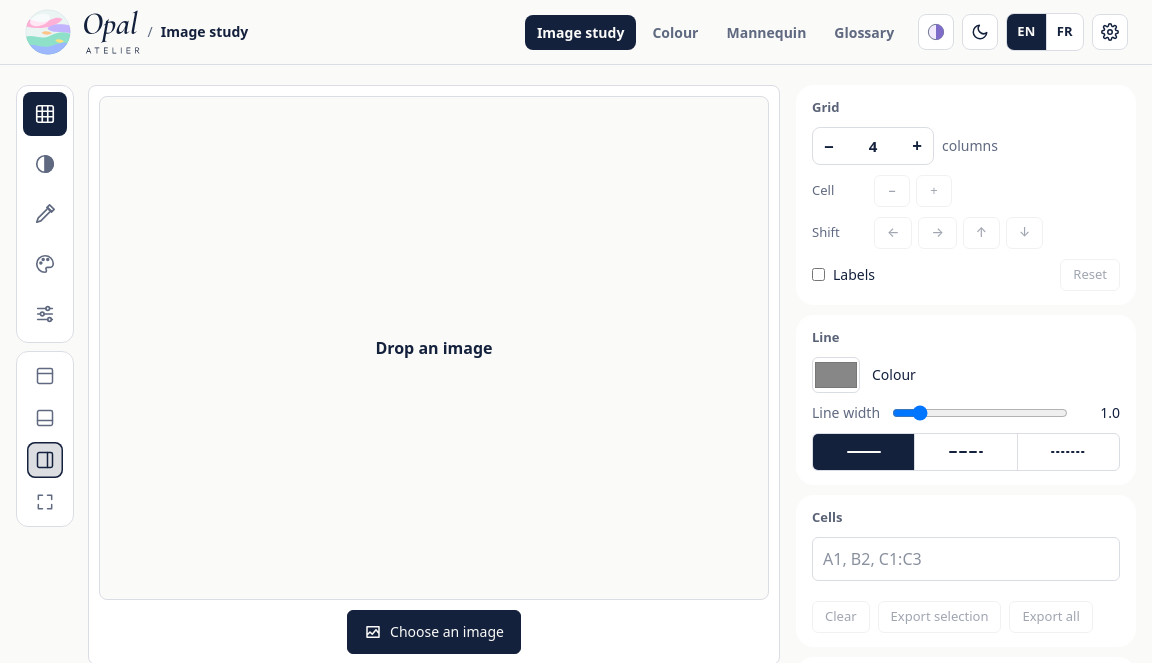
Image study › hides the layout choice where there is no image
The image size is (1152, 663).
Expected: the element named "Layout" is shown, [27, 358, 63, 520]
What coordinates should you click on to do the following:
click the tab named "Configuration"
I would click on:
 (45, 314)
Its box is [23, 292, 67, 336].
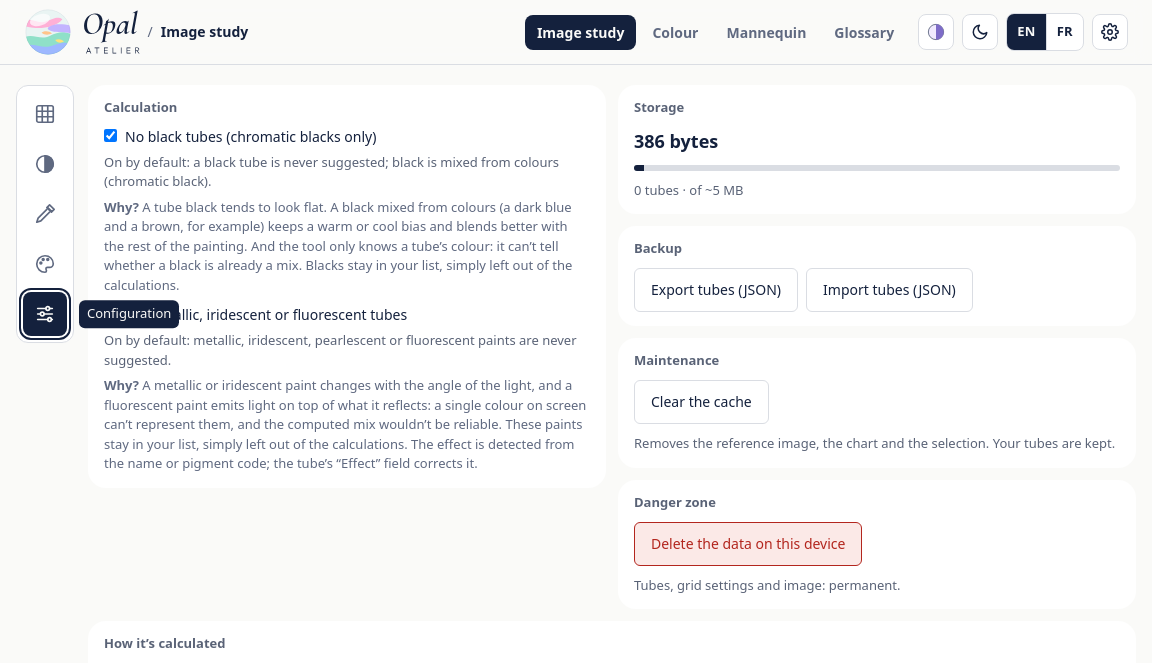
Result: the element "Layout" is gone
